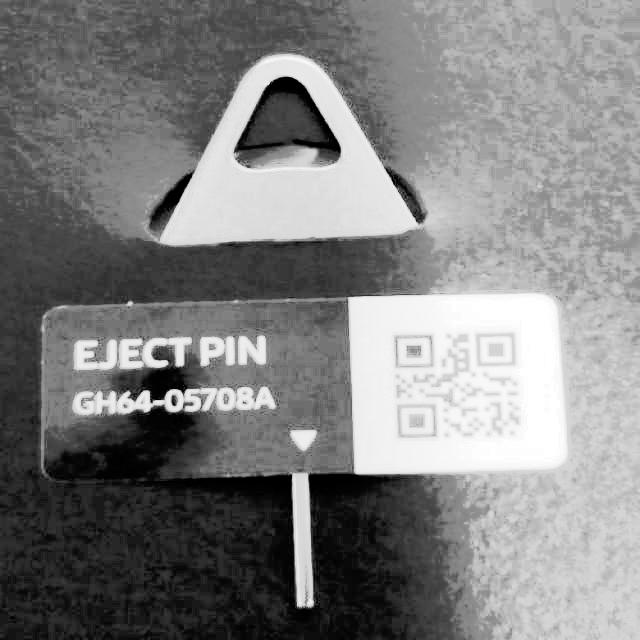qr_code: (374, 315, 532, 451)
